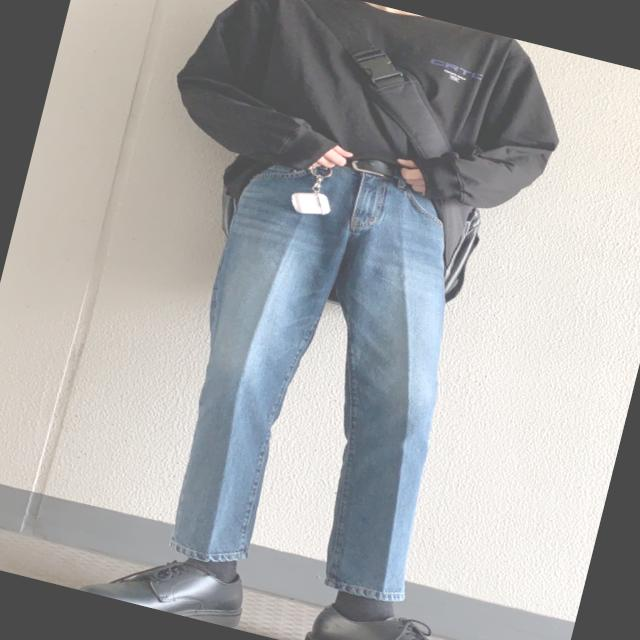denimpants: (148, 138, 504, 612)
longsleeve: (161, 0, 578, 233)
